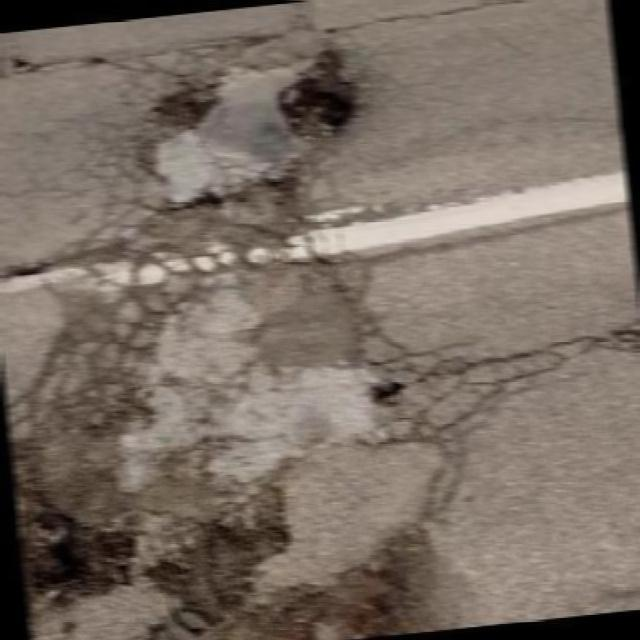Pothole: (17, 489, 155, 603), (268, 31, 368, 165), (134, 69, 222, 149), (361, 372, 412, 409)
